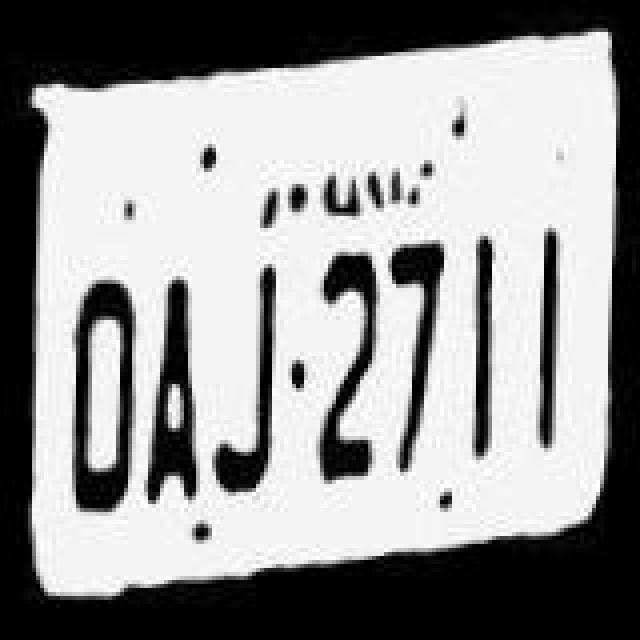1: (518, 218, 578, 470), (452, 220, 508, 472)
2: (302, 232, 382, 504)
7: (374, 230, 446, 498)
A: (138, 258, 210, 514)
J: (202, 240, 282, 500)
O: (58, 256, 146, 528)
